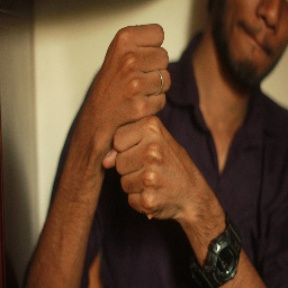G: (81, 18, 199, 219)
